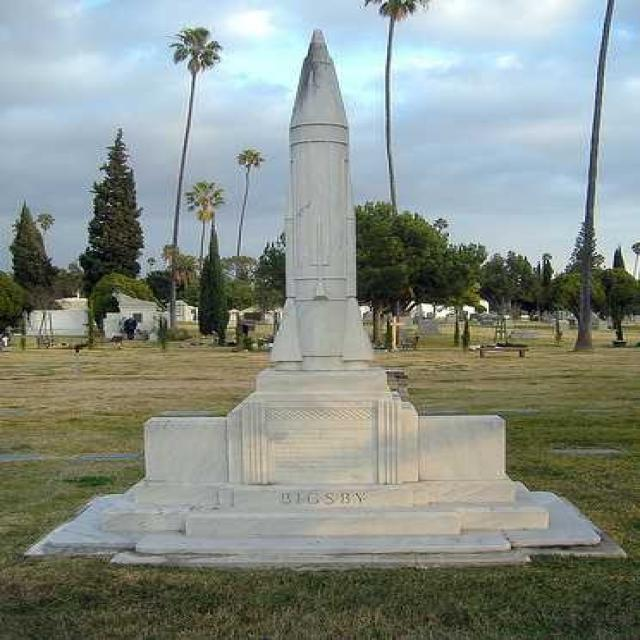missile: (234, 36, 418, 471)
